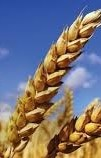Healthy Wheat: (11, 13, 101, 146)
